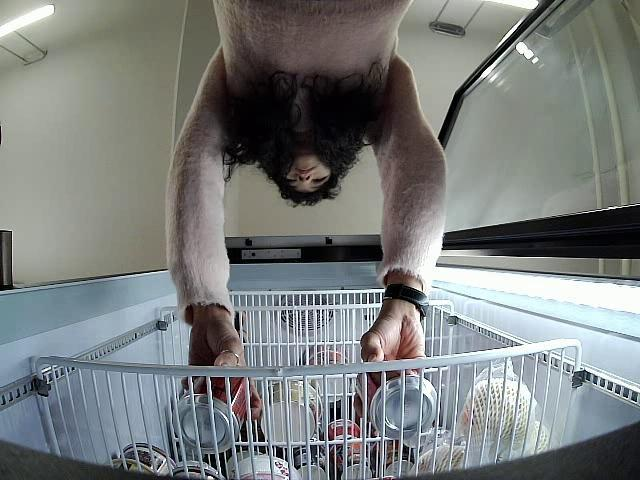11_cocaColaZero: (354, 357, 441, 440), (172, 368, 250, 455)
